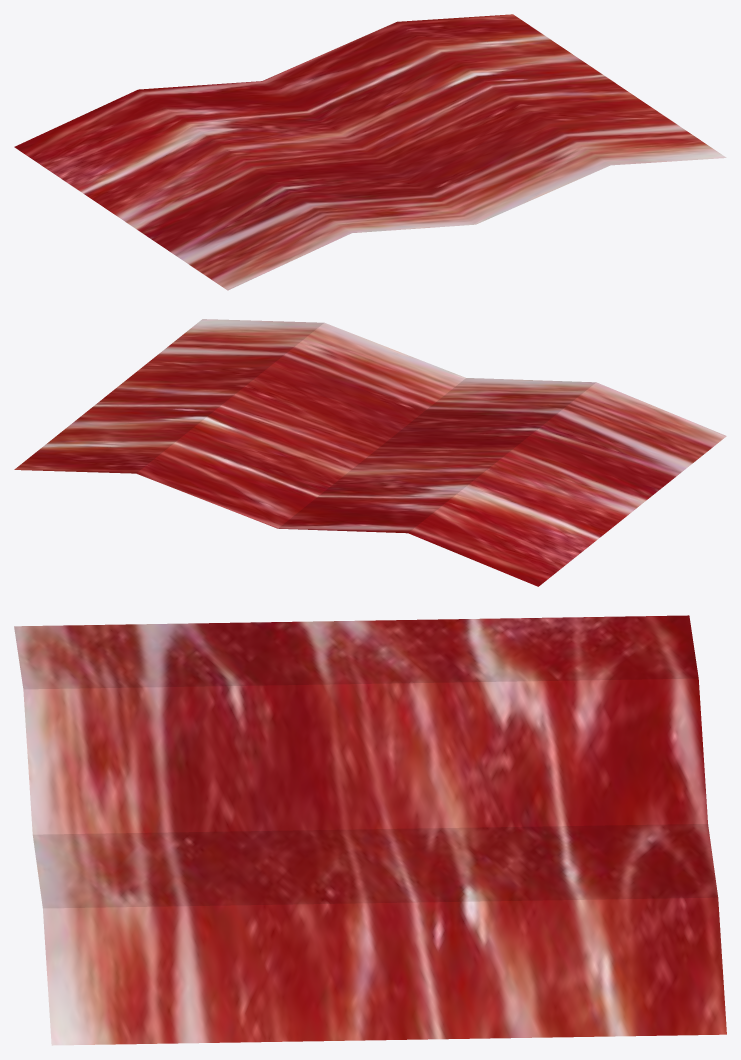
File: jamon.glb
3 views of the same model, one above another, from view 1: azimuth 30°, elevation 25°; view 2: azimuth 150°, elevation 25°; view 3: azimuth 270°, elevation 25° (orthographic). The views are drawn at different scales.
Visible parts, largest first — view 1: Plane; view 2: Plane; view 3: Plane.
Boxes of the visible parts, x1,y1,x2,y2 form: Plane: [14, 14, 726, 290]; Plane: [14, 319, 726, 586]; Plane: [14, 615, 726, 1045].
Bounding box in the file's own units: 3.75 × 0.1675 × 2.63.
1 material, 1 textured.
